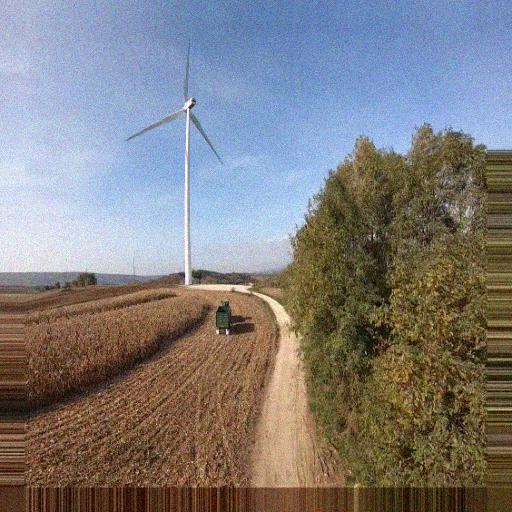wind turbine: (124, 42, 225, 285)
